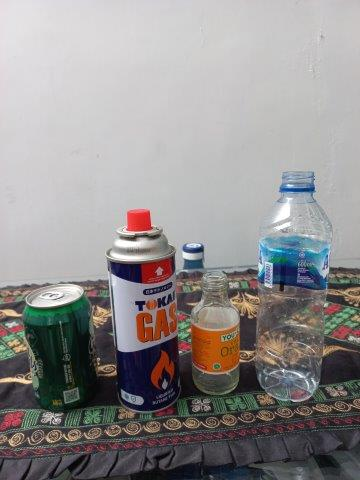botolkaca: (193, 273, 240, 394)
botolplastik: (258, 171, 334, 402)
kaleng: (108, 208, 180, 411), (21, 283, 95, 411)
